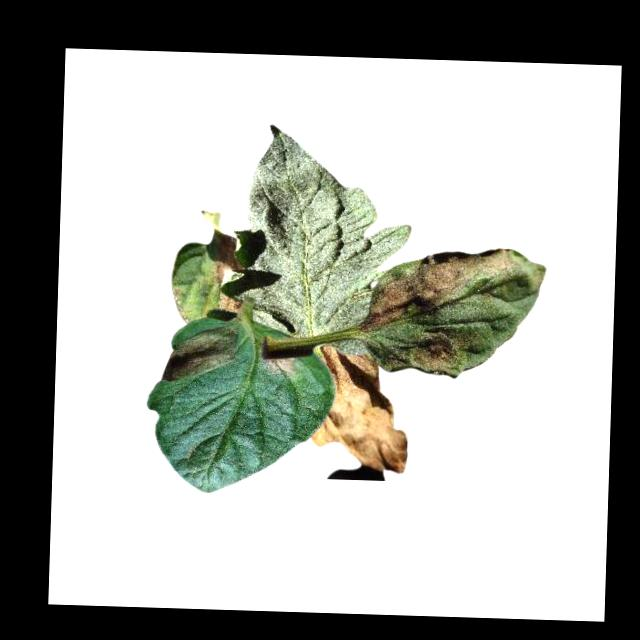Late_blight: (359, 244, 522, 334), (307, 343, 410, 474), (163, 324, 241, 385), (378, 327, 477, 375), (216, 236, 238, 283), (265, 352, 298, 380), (171, 288, 191, 321), (218, 293, 242, 315)
healthy: (221, 122, 412, 339)
